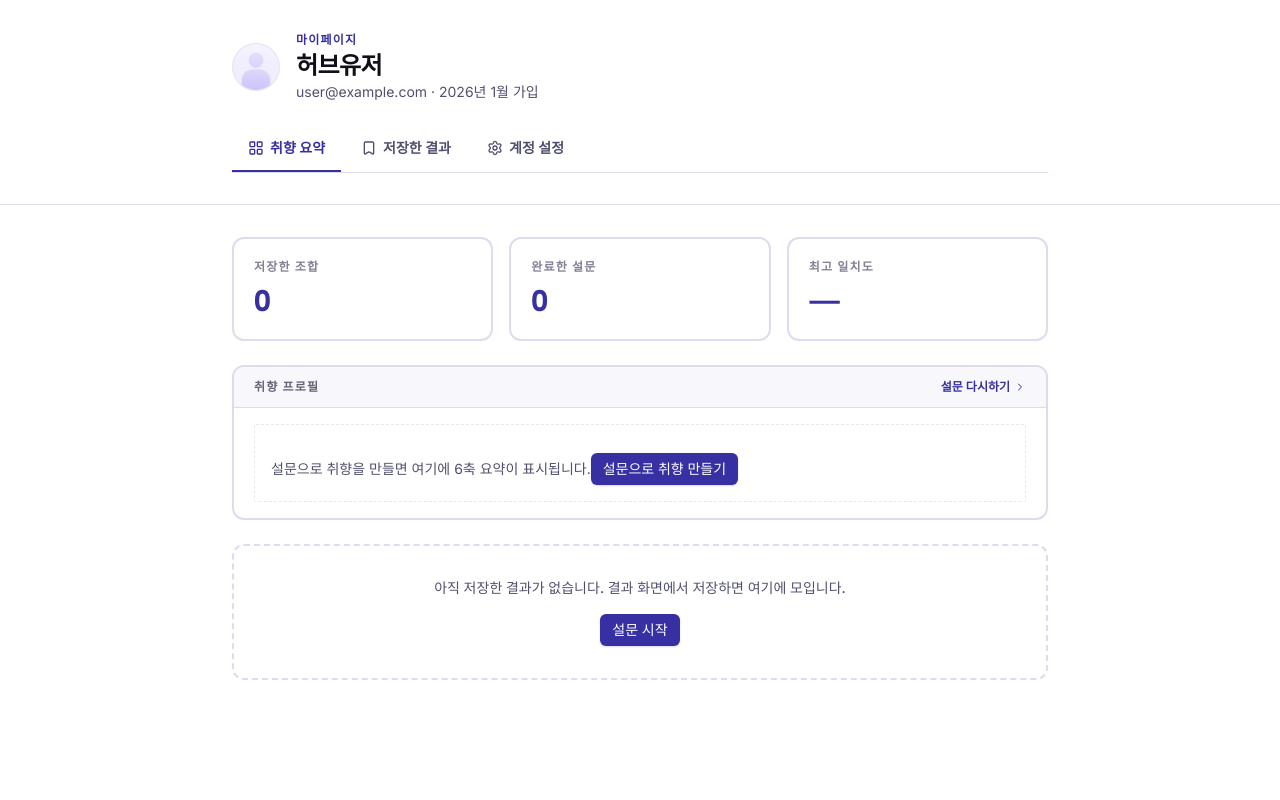
Test case: MyPageHub smoke › switches to saved and account sections
Check: the heading "허브유저" is shown, box [296,50,382,81]
Click the tab "저장한 결과" at (406, 149), box [345,126,467,172]
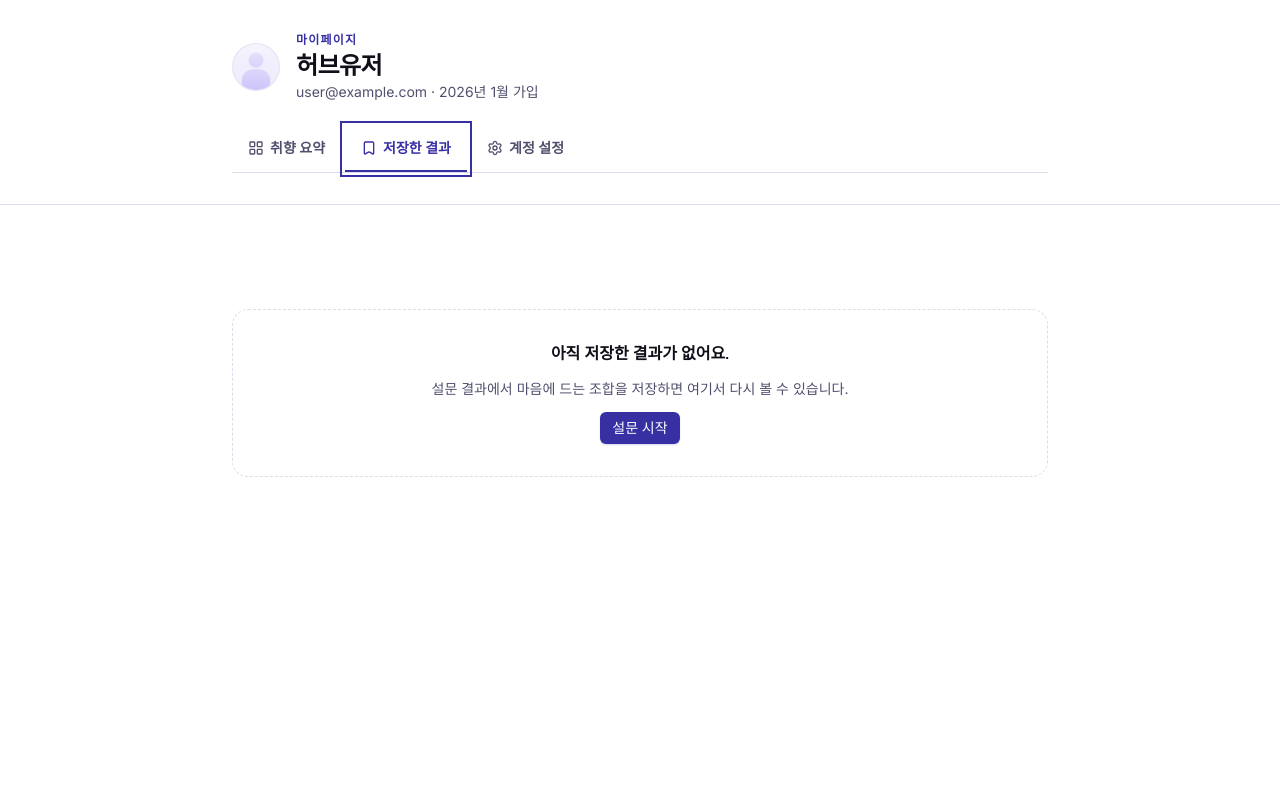
Check: the text "아직 저장한 결과가 없어요." is shown, box [551,343,729,364]
Click the tab "계정 설정" at (526, 149), box [471,126,580,172]
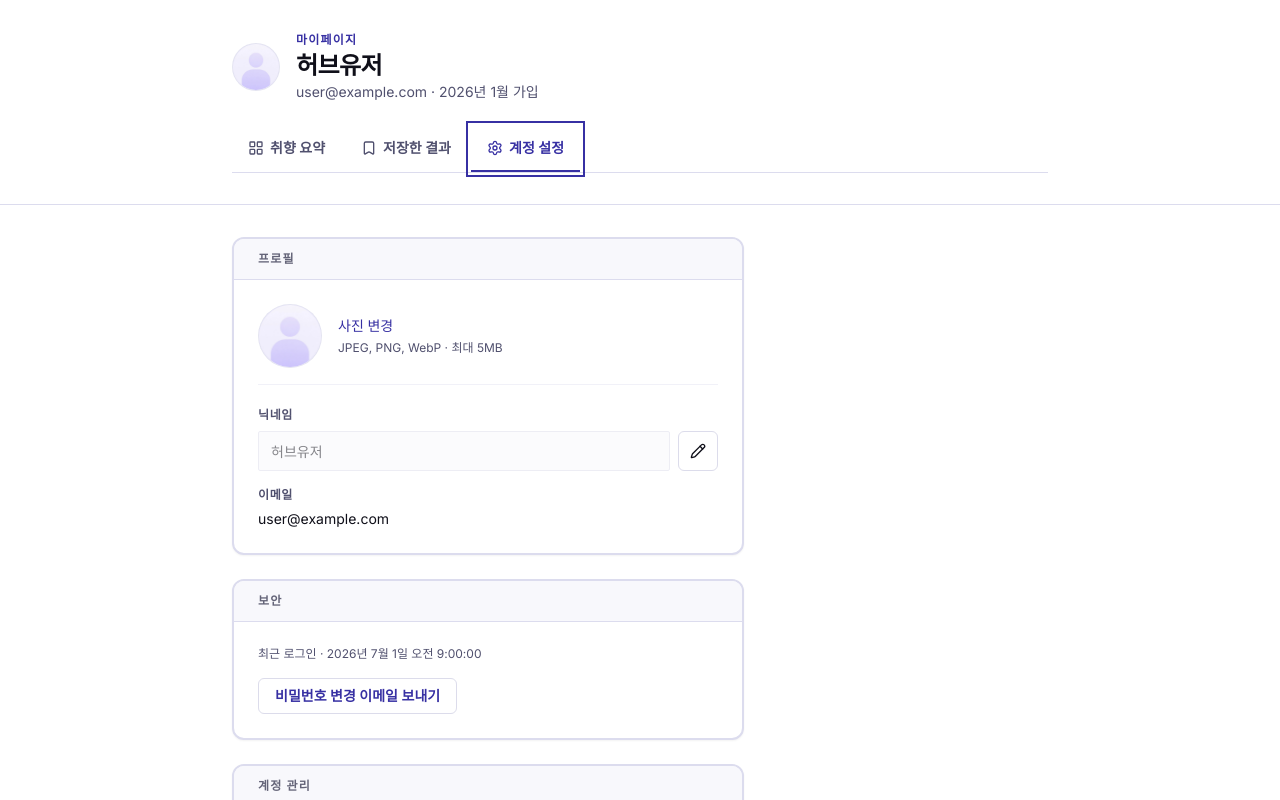
Check: the heading "프로필" is shown, box [258,251,295,266]
Check: the heading "보안" is shown, box [258,593,282,608]
Check: the heading "계정 관리" is shown, box [258,778,311,793]
